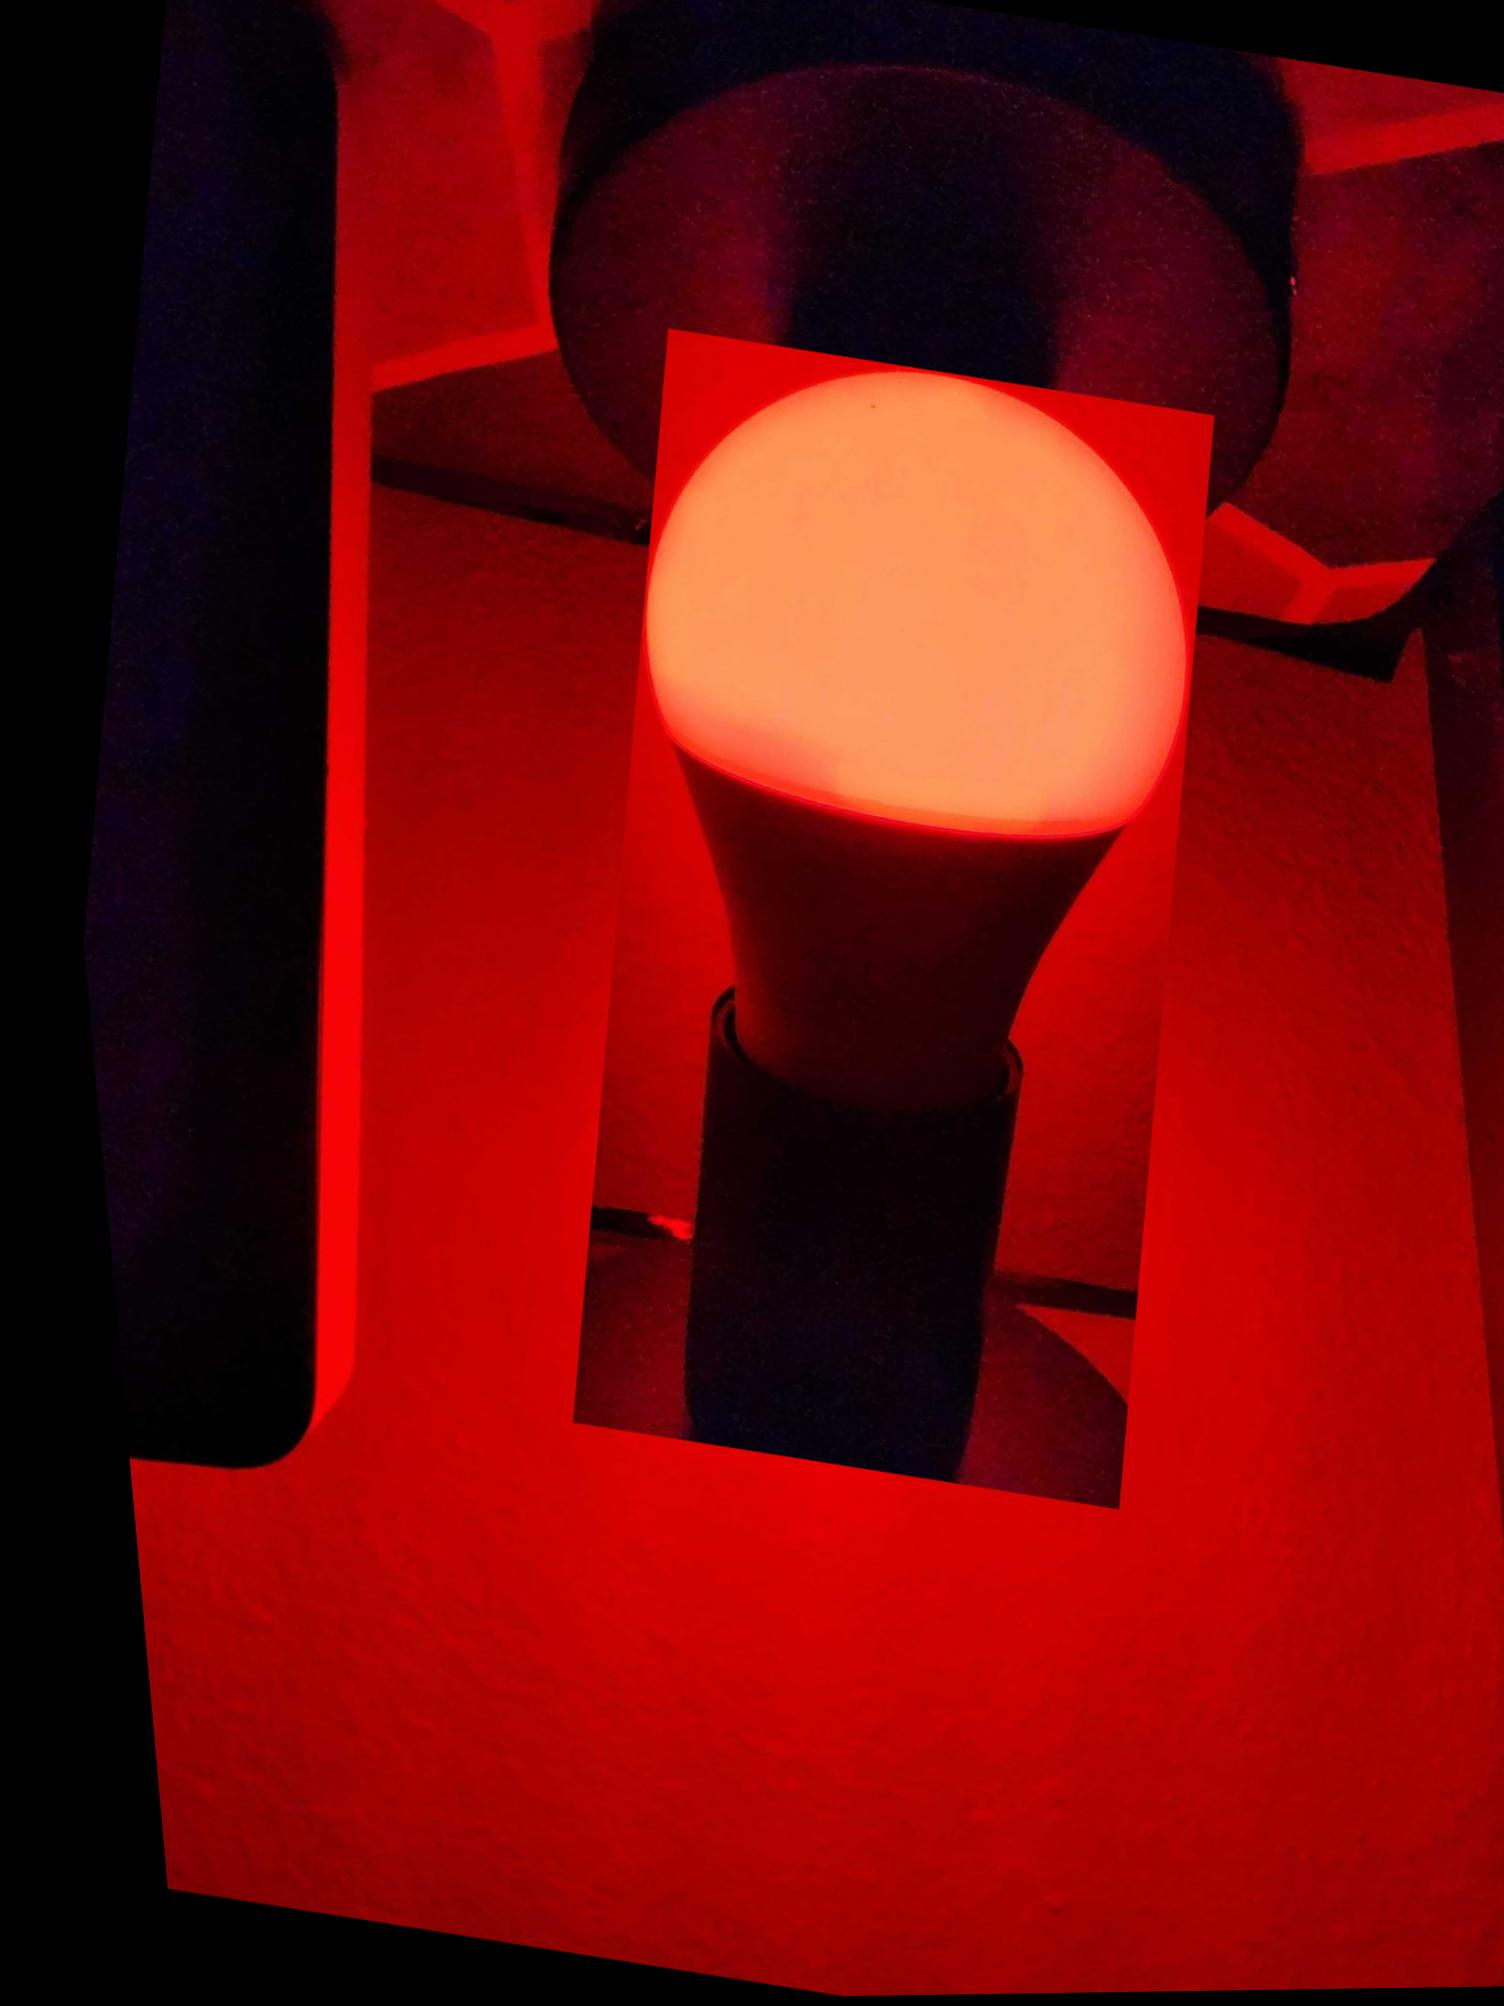TubeLight: (469, 324, 1283, 1520)
